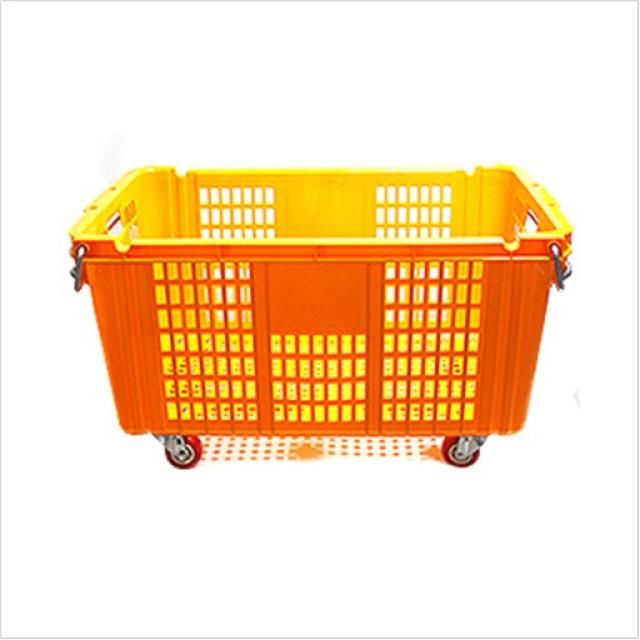basket: (70, 166, 574, 468)
